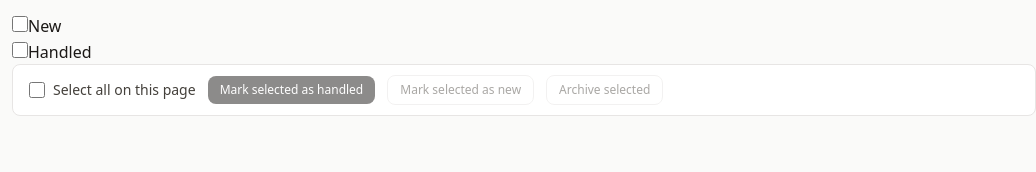
Test: BulkActionBar — successful actions refresh visible inquiries › refreshes the visible status to handled and clears the completed selection
Click the 1st checkbox named "Select inquiry": [20, 24] box [12,16,28,32]
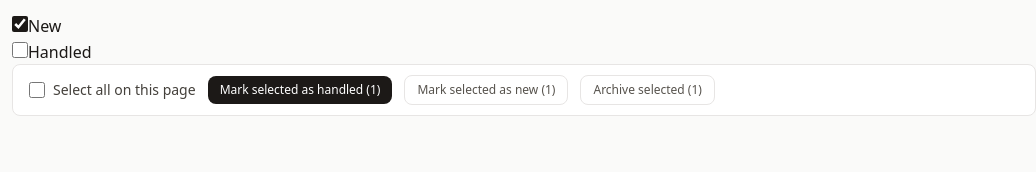
Click the button "Mark selected as handled (1)": [300, 90] box [208,76,392,104]
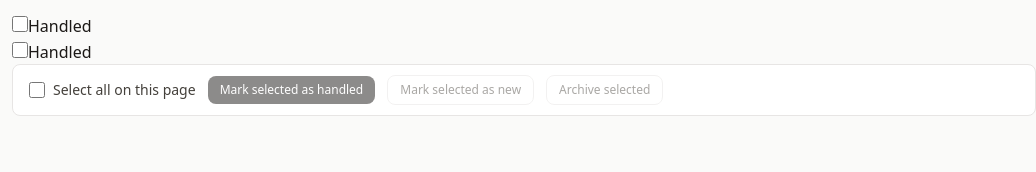
Now the 1st checkbox named "Select inquiry" is not checked, box [12,16,28,32]
Now the element with test id "visible-inq-1" reads "Handled", box [28,15,92,37]
Now the button "Mark selected as handled" is disabled, box [208,76,375,104]
